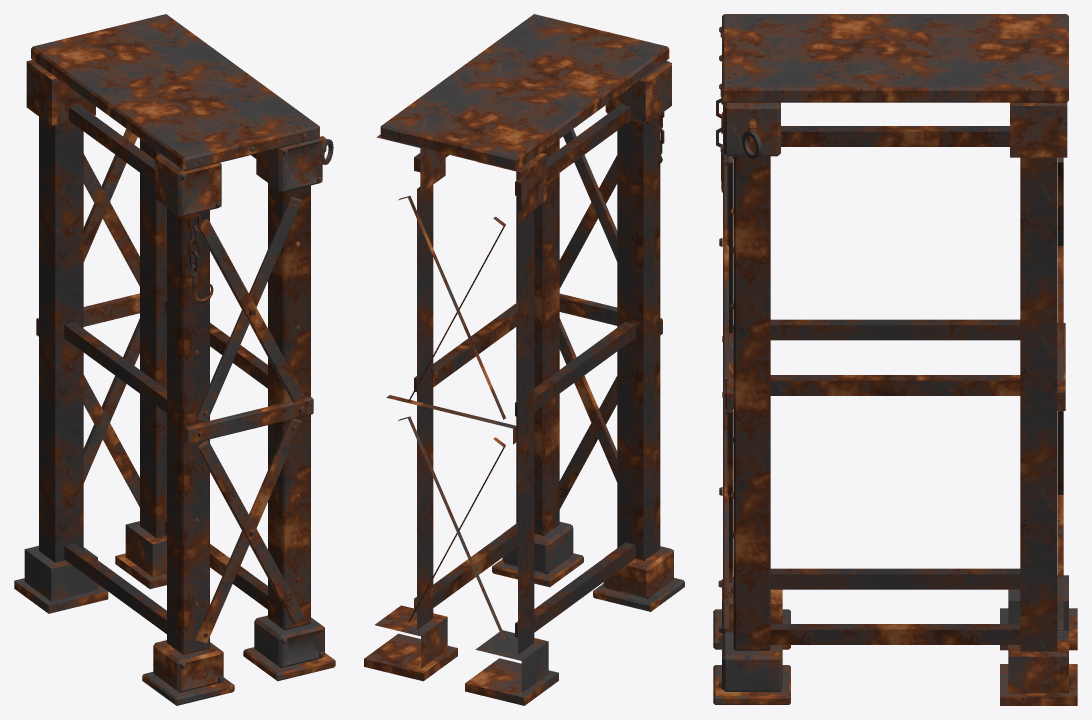
The model's file is Support_M.glb.
3 renders of one model, left to right at view 1: azimuth 30°, elevation 25°; view 2: azimuth 150°, elevation 25°; view 3: azimuth 270°, elevation 25°, orthographic. The views are drawn at different scales.
Parts seen in each view (by area): view 1: Support_M; view 2: Support_M; view 3: Support_M.
Part boxes in pixels (box(x1,y1,x2,y2)): Support_M: box(14, 14, 335, 705); Support_M: box(364, 14, 684, 705); Support_M: box(713, 14, 1077, 705).
Bounding box in the file's own units: 1.37 × 4 × 2.16.
Materials: 2 (2 with a texture image).
